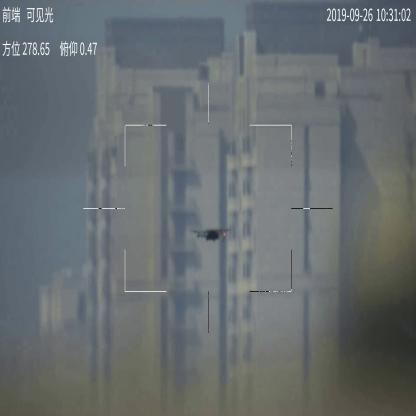uav: (193, 225, 231, 244)
